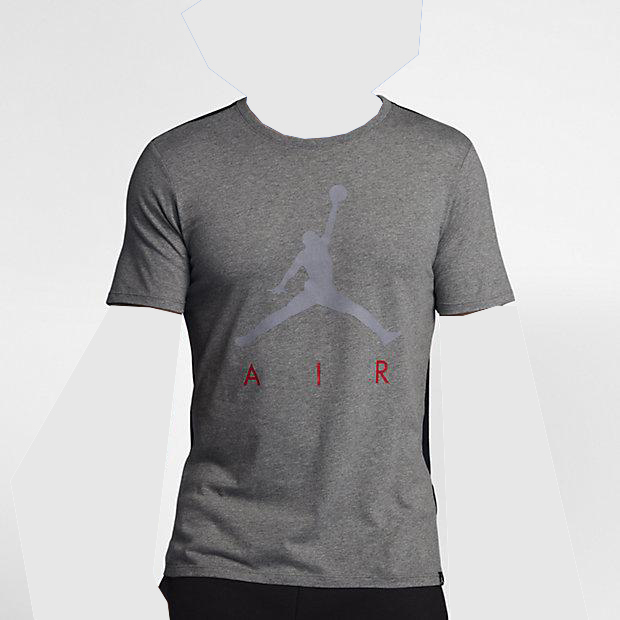teeshirt: (102, 95, 528, 591)
